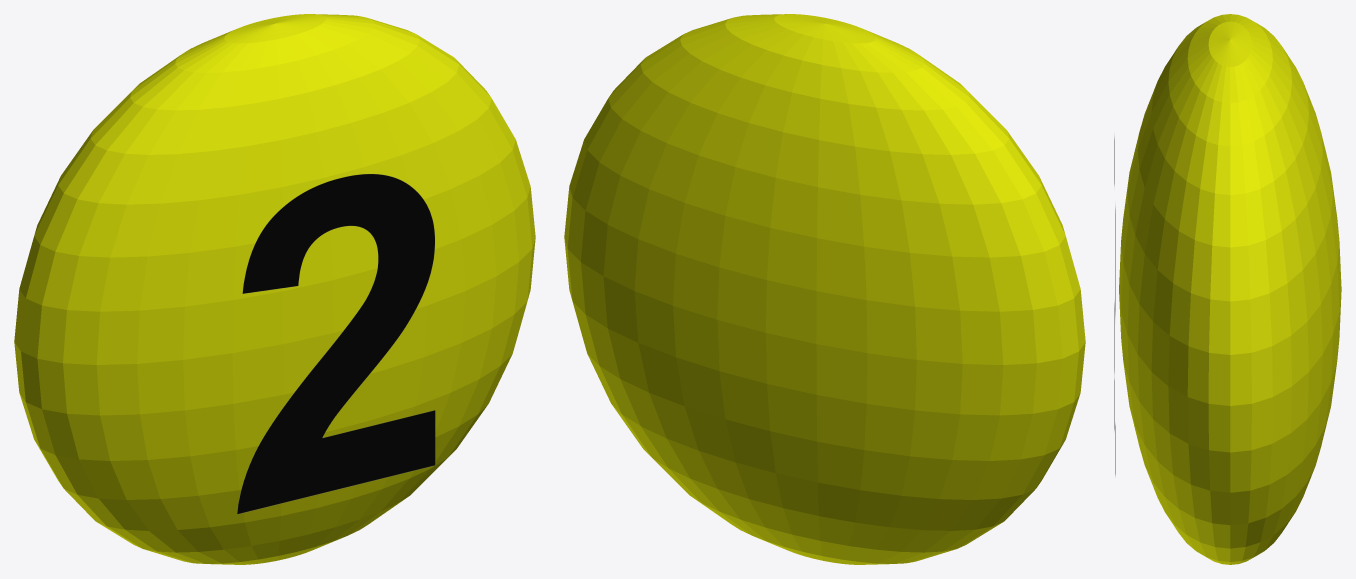
Rendered from numberMark2.glb.
3 views of the same model, side by side, from view 1: azimuth 30°, elevation 25°; view 2: azimuth 150°, elevation 25°; view 3: azimuth 270°, elevation 25° (orthographic). The views are drawn at different scales.
Parts seen in each view (by area): view 1: Sphere.001, 2; view 2: Sphere.001; view 3: Sphere.001, 2.
Boxes of the visible parts, left/top/right/bottom form: Sphere.001: left=14, top=14, right=535, bottom=564; 2: left=237, top=174, right=435, bottom=514; Sphere.001: left=564, top=14, right=1085, bottom=564; Sphere.001: left=1119, top=14, right=1341, bottom=564; 2: left=1114, top=136, right=1115, bottom=476.
Size of the model in its own units: 2 by 2 by 0.824.
2 materials, 1 textured.
